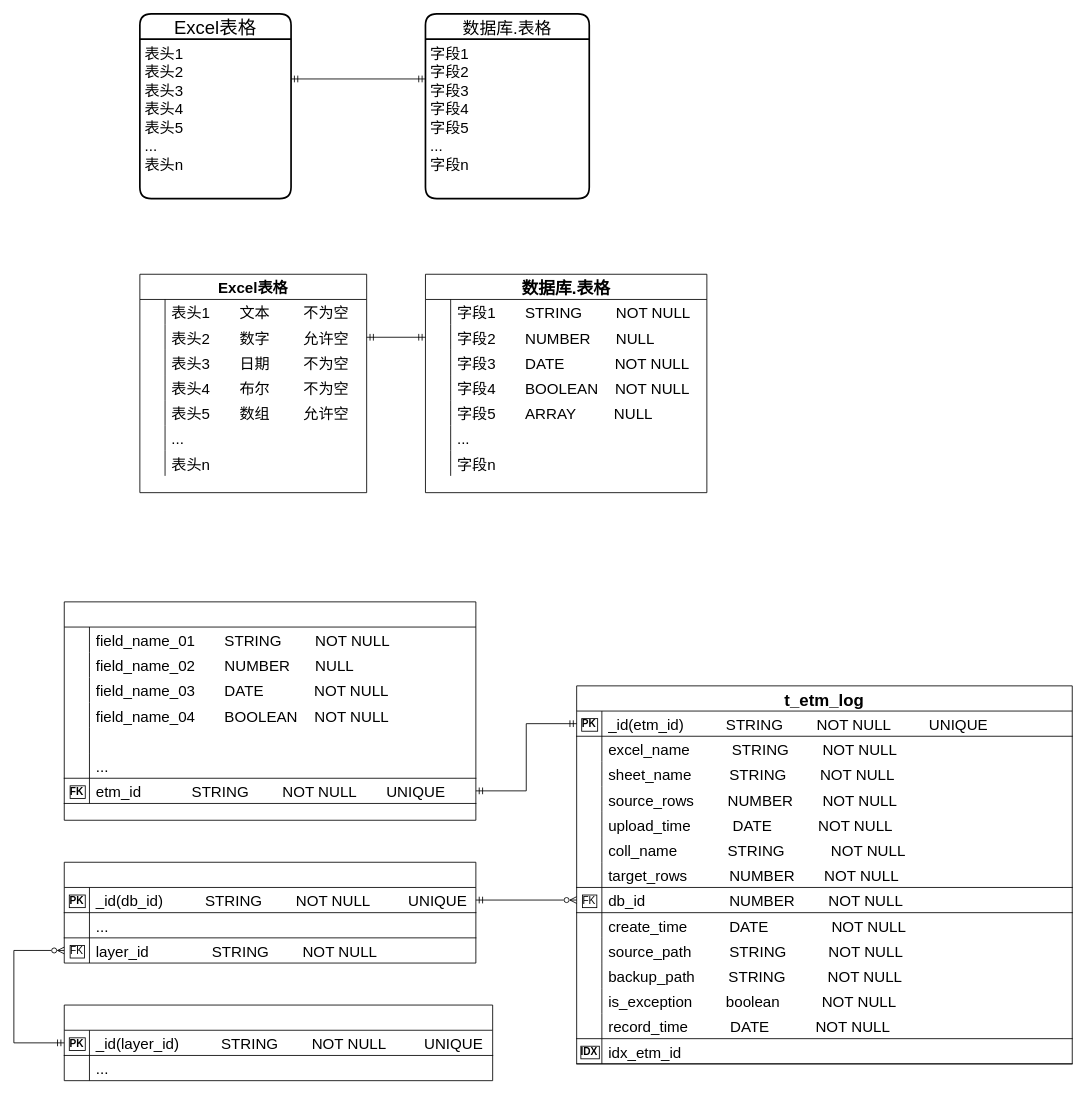
This 1086x1095 diagram has some shape labels left out. The box of each missing label's shape, as (x1, y1, x2, y2) in pixels:
t_coll_name: (63, 601, 476, 820)
t_database_list: (63, 861, 476, 963)
t_layer_list: (63, 1004, 493, 1081)
